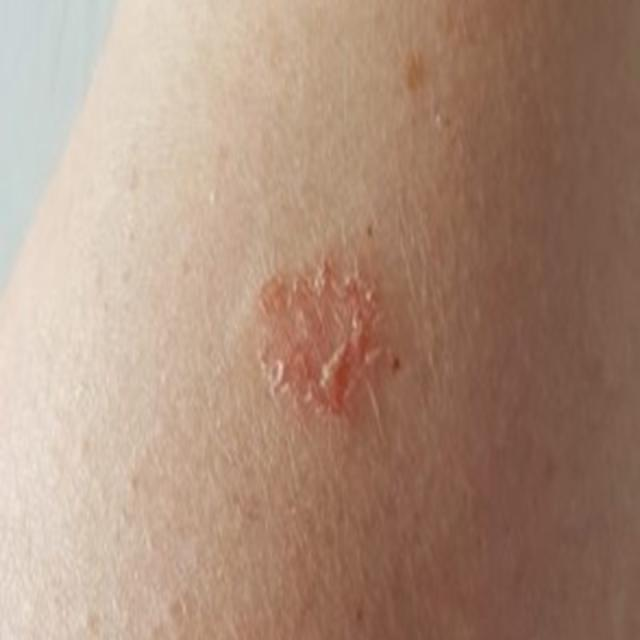Eczema: (235, 243, 400, 417)
